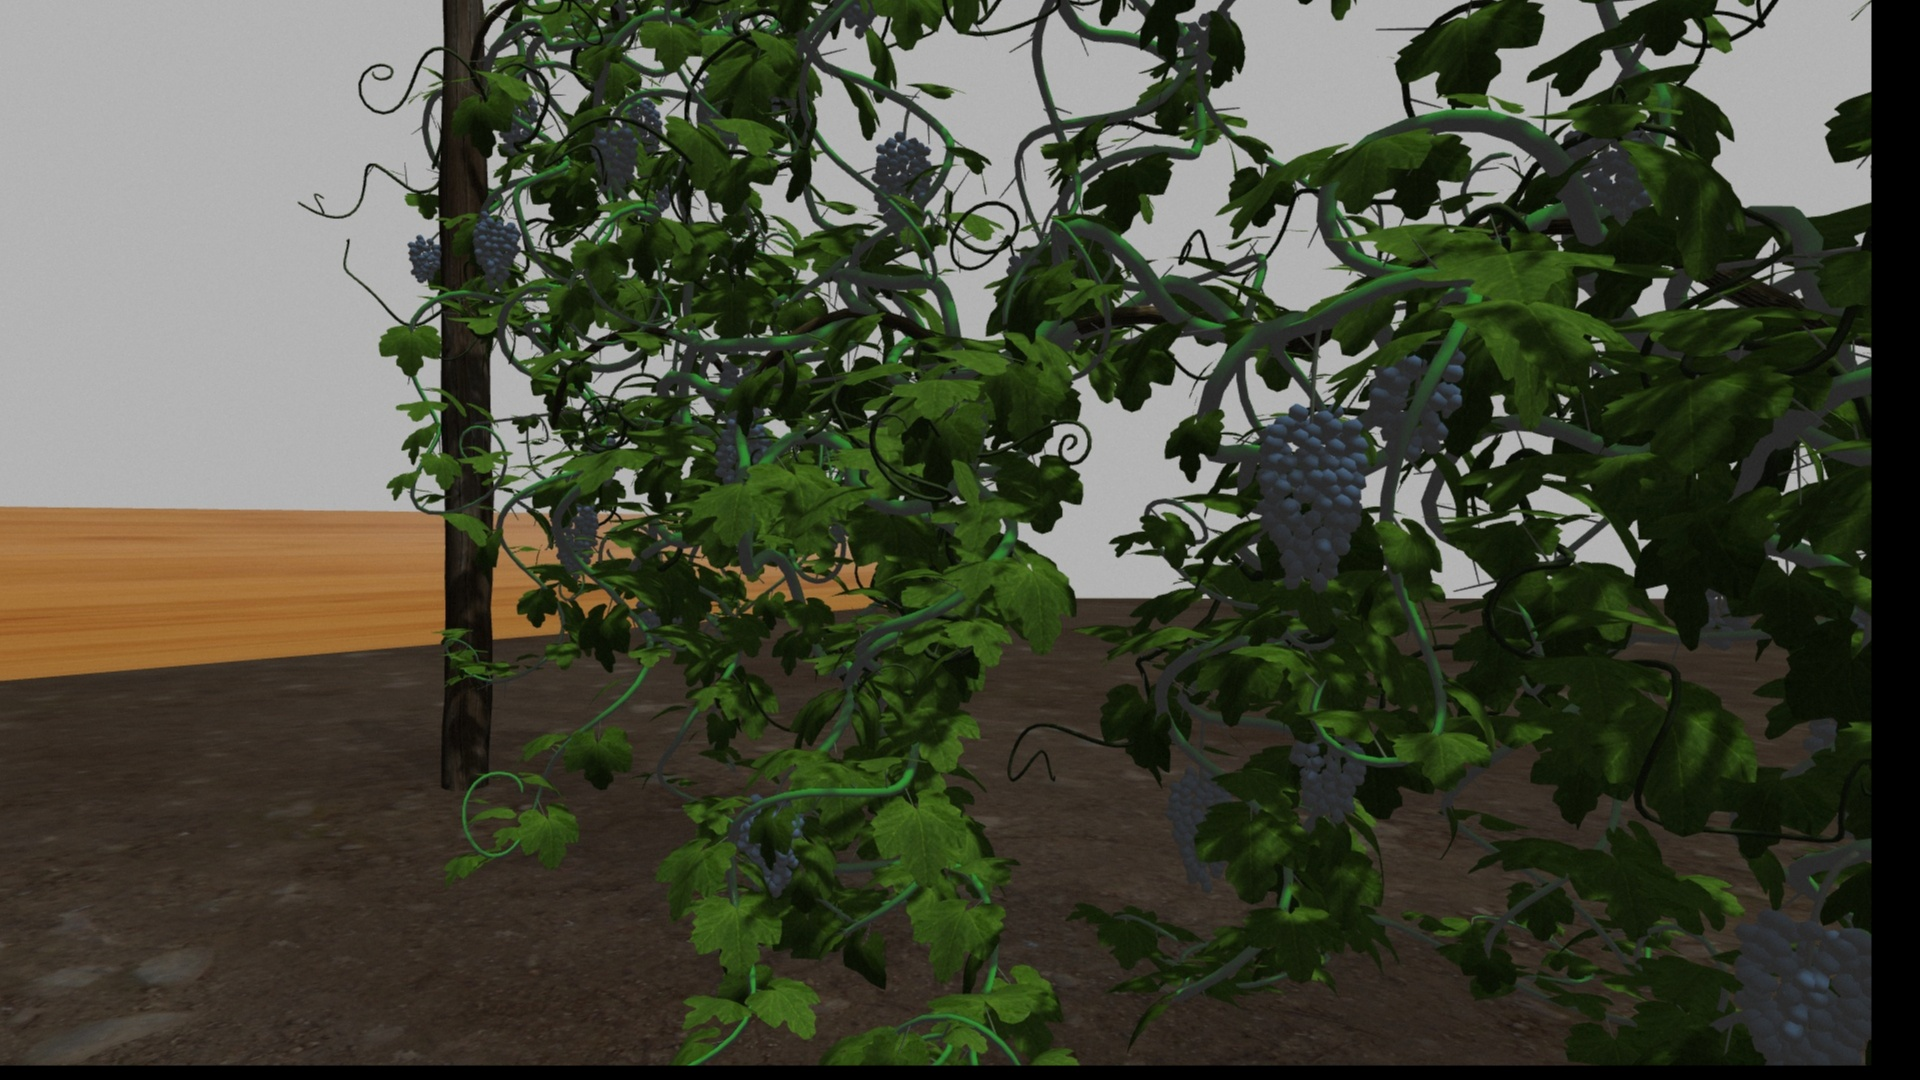grape: (1722, 909, 1867, 1062), (1257, 405, 1367, 593), (1367, 343, 1466, 464), (1164, 767, 1244, 891), (1287, 732, 1367, 832), (737, 795, 804, 899), (872, 132, 932, 229), (471, 212, 520, 287), (550, 501, 599, 576), (592, 127, 638, 196), (622, 100, 663, 156), (406, 233, 440, 284)
